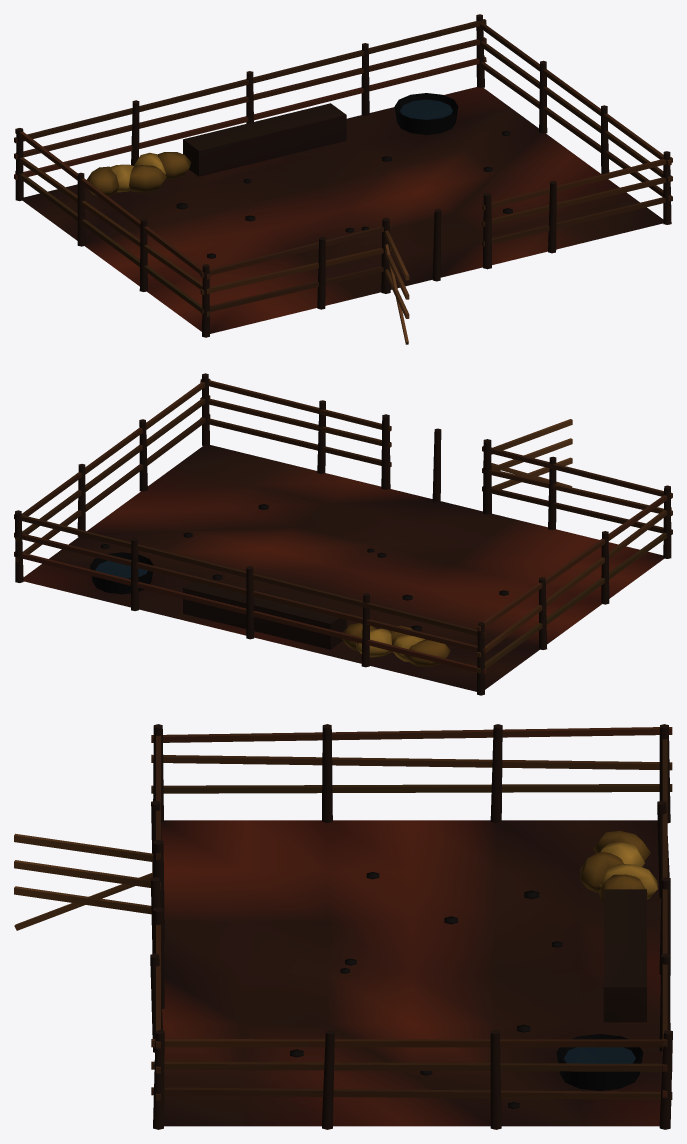
File: fm_pen.glb
3 views of the same model, one above another, from view 1: azimuth 30°, elevation 25°; view 2: azimuth 150°, elevation 25°; view 3: azimuth 270°, elevation 25° (orthographic). The views are drawn at different scales.
Parts seen in each view (by area): view 1: fm_pen; view 2: fm_pen; view 3: fm_pen.
Part boxes in pixels (x1,y1,x2,y2): fm_pen: [14, 14, 672, 344]; fm_pen: [14, 373, 672, 695]; fm_pen: [14, 724, 672, 1129].
Bounding box in the file's own units: 10.2 × 1.65 × 9.11.
